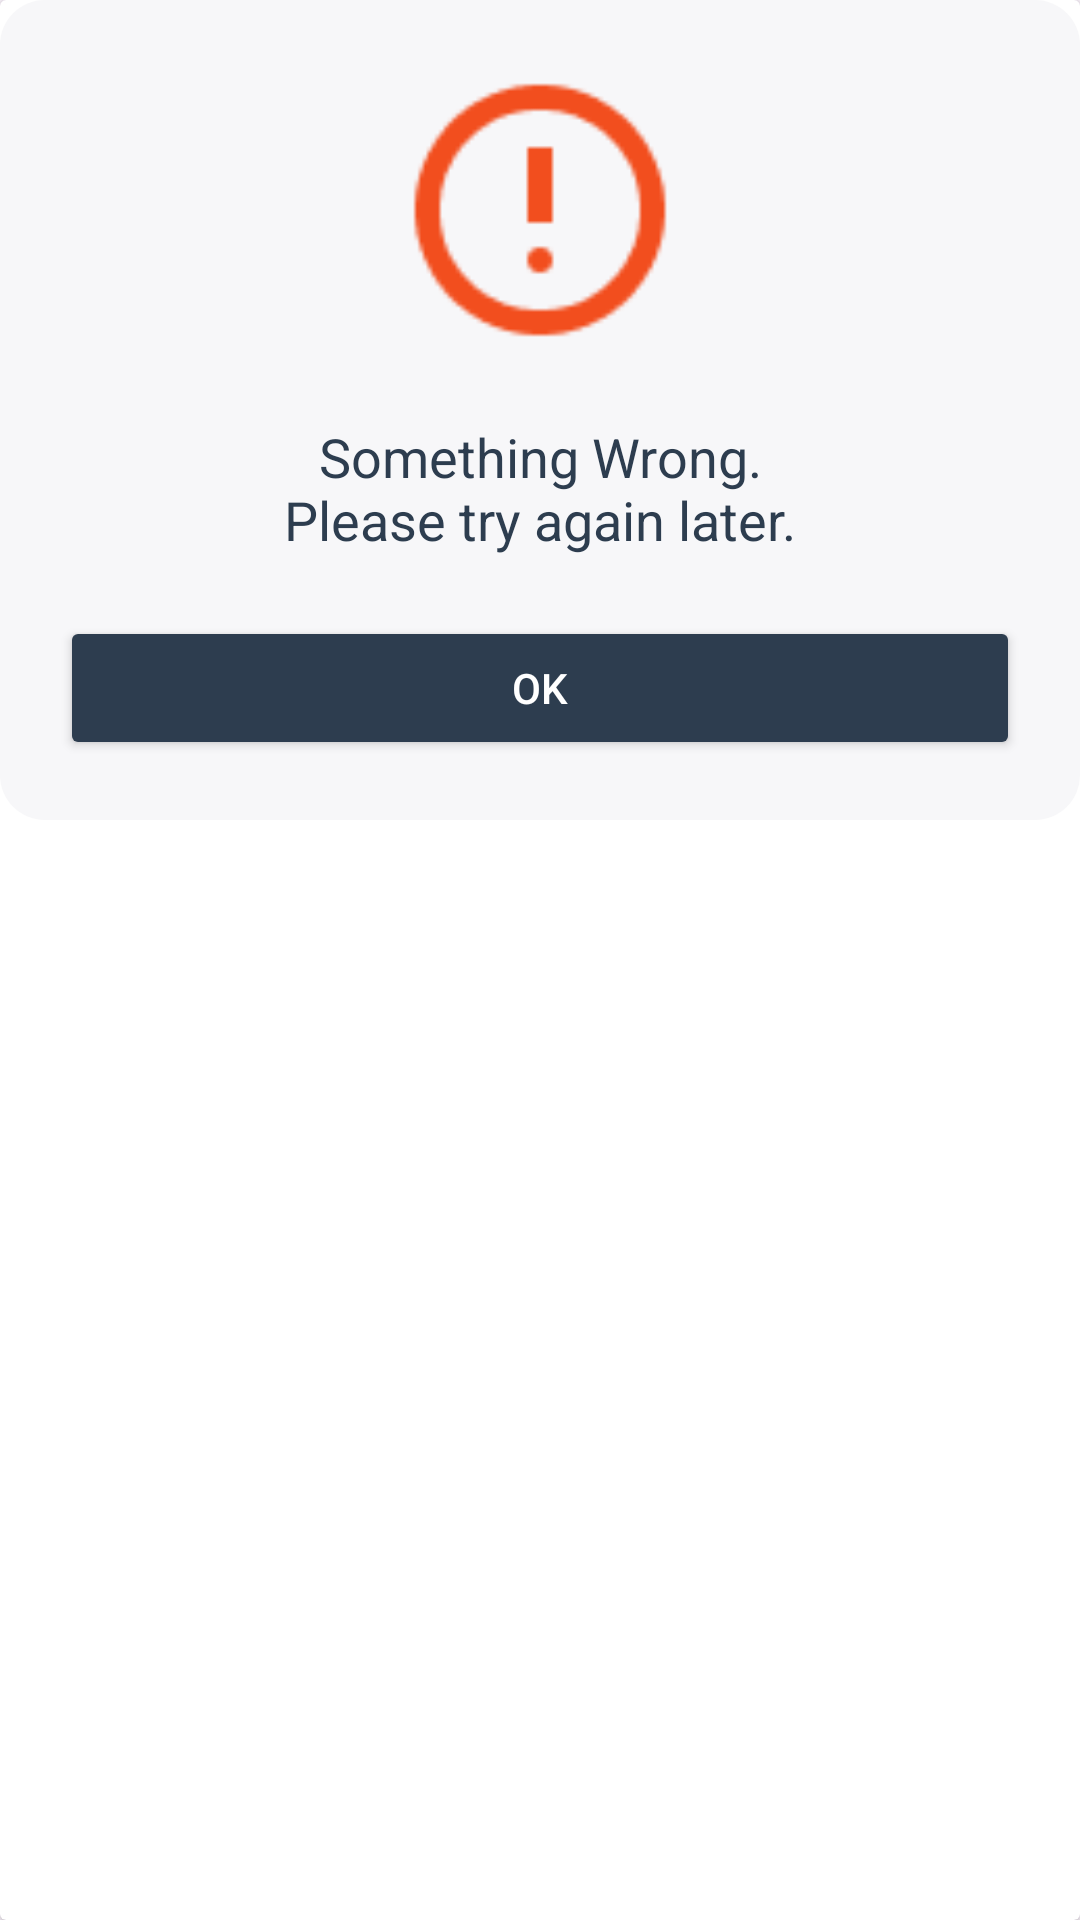

Icon bounding boxes for this 1080x1920 phone screenshot, format [x1,y1,x2,y2]:
error: [413,83,667,337]
